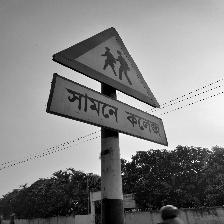College-in-front: (42, 23, 196, 160)
